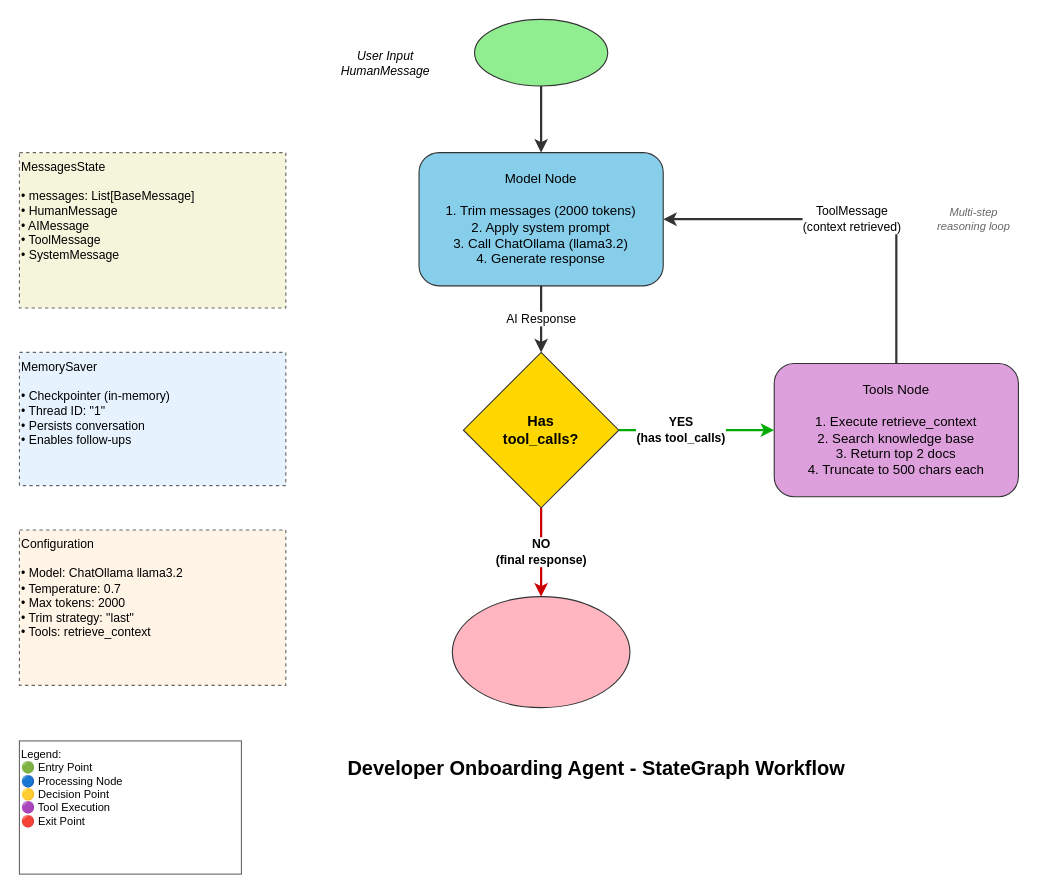
Some shapes in this 1038 by 894 pixel diagram are drawn without their labels. The centre of each missing label's shape, as x and y in pixels:
"END Return final response Save to MemorySaver" goes at point (540, 652).
"START" goes at point (540, 52).
